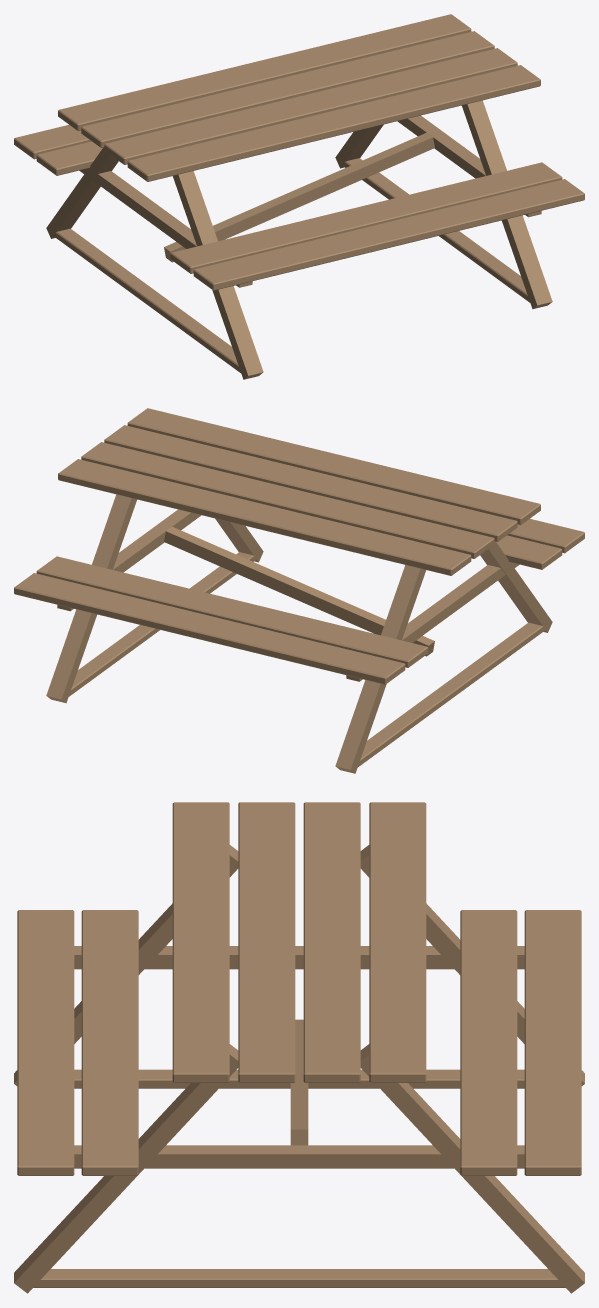
The model's file is bar-pub-and-brewery-taproom-beer-garden-picnic-table-5cfd474e__18385.glb.
3 views of the same model, one above another, from view 1: azimuth 30°, elevation 25°; view 2: azimuth 150°, elevation 25°; view 3: azimuth 270°, elevation 25° (orthographic). The views are drawn at different scales.
Parts seen in each view (by area): view 1: beer-garden-picnic-table; view 2: beer-garden-picnic-table; view 3: beer-garden-picnic-table.
Part boxes in pixels (x1,y1,x2,y2): beer-garden-picnic-table: (14, 14, 584, 379); beer-garden-picnic-table: (14, 408, 584, 773); beer-garden-picnic-table: (14, 802, 584, 1293).
Size of the model in its own units: 1.8 by 0.7762 by 1.6.
